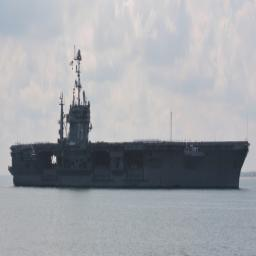Portanaves: (8, 42, 253, 191)
